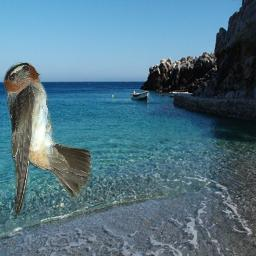Swallow: (3, 62, 91, 219)
